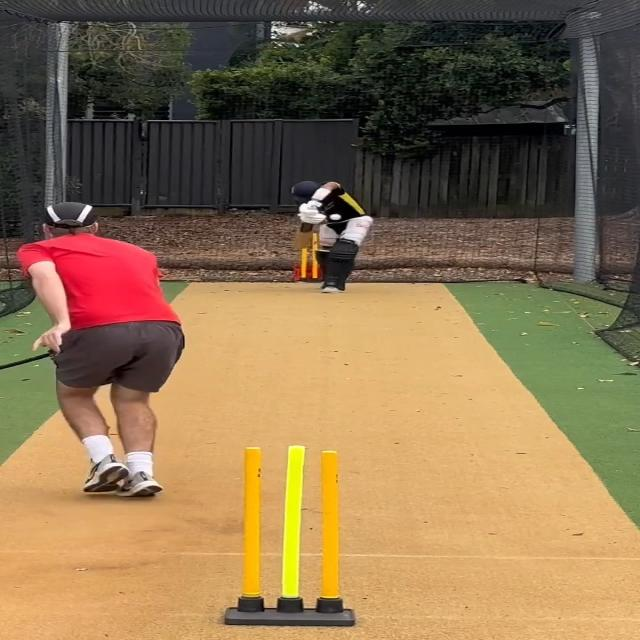ball: (329, 213, 342, 221)
stump: (222, 446, 356, 627)
